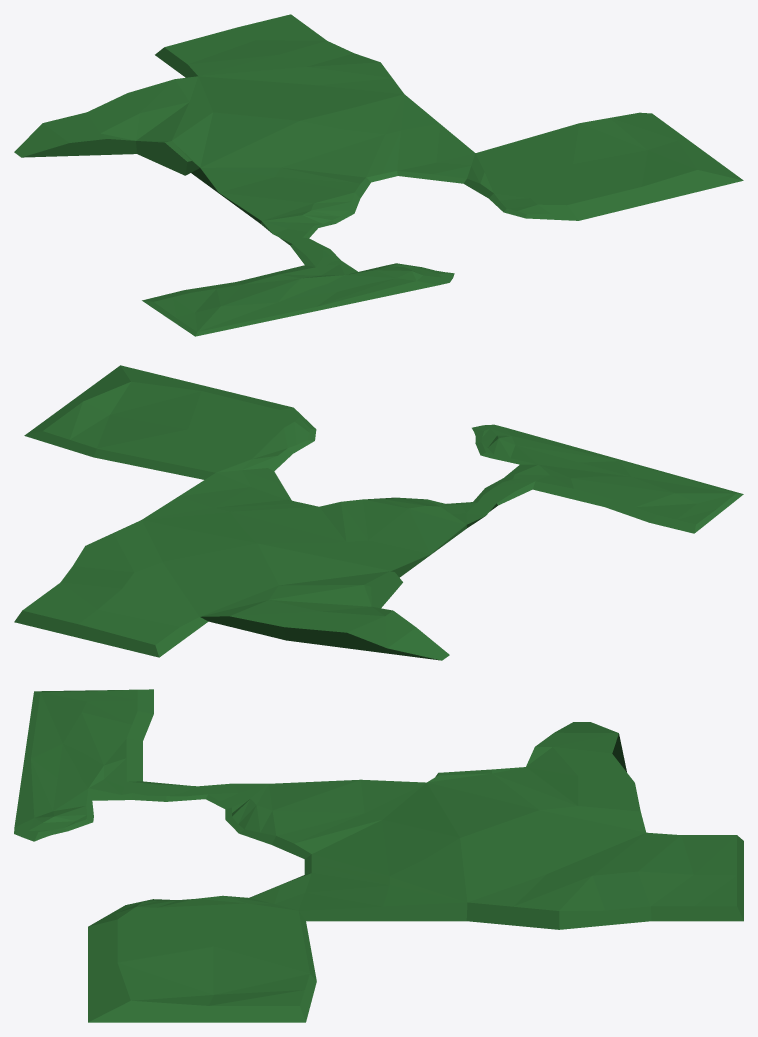
File: intro-grass.glb
The picture shows the model from 3 angles, top to bottom: view 1: azimuth 30°, elevation 25°; view 2: azimuth 150°, elevation 25°; view 3: azimuth 270°, elevation 25°; orthographic projection. The views are drawn at different scales.
Visible parts, largest first — view 1: NurbsPath.004; view 2: NurbsPath.004; view 3: NurbsPath.004.
Part boxes in pixels (x1,y1,x2,y2): NurbsPath.004: (14,14,743,336); NurbsPath.004: (14,365,743,660); NurbsPath.004: (14,689,743,1022).
Bounding box in the file's own units: 285 × 9.62 × 264.
1 material, 1 textured.
